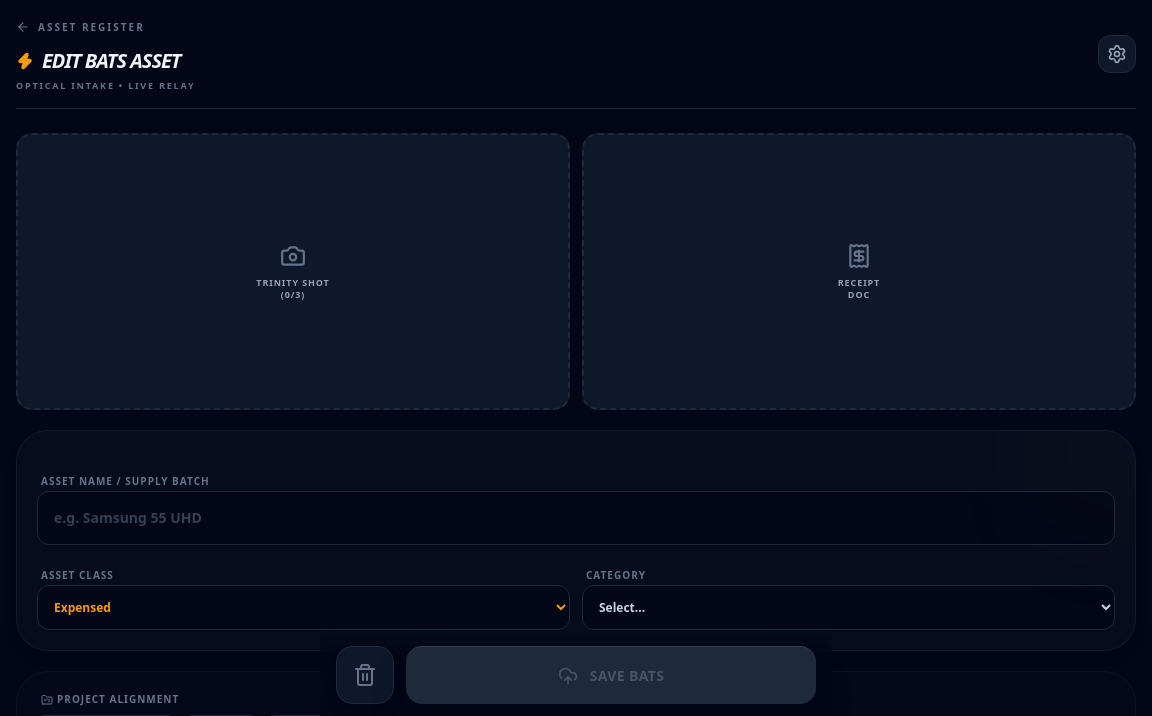
Scenario: BATS intake UI › sends PATCH to the current BATS asset route in edit mode
Expected: the heading "Edit BATS Asset" is shown, [42,46,180,74]
Type "Edited Camera" into the field with placeholder "e.g. Samsung 55 UHD". click: (576, 518)
box: [37,491,1115,545]
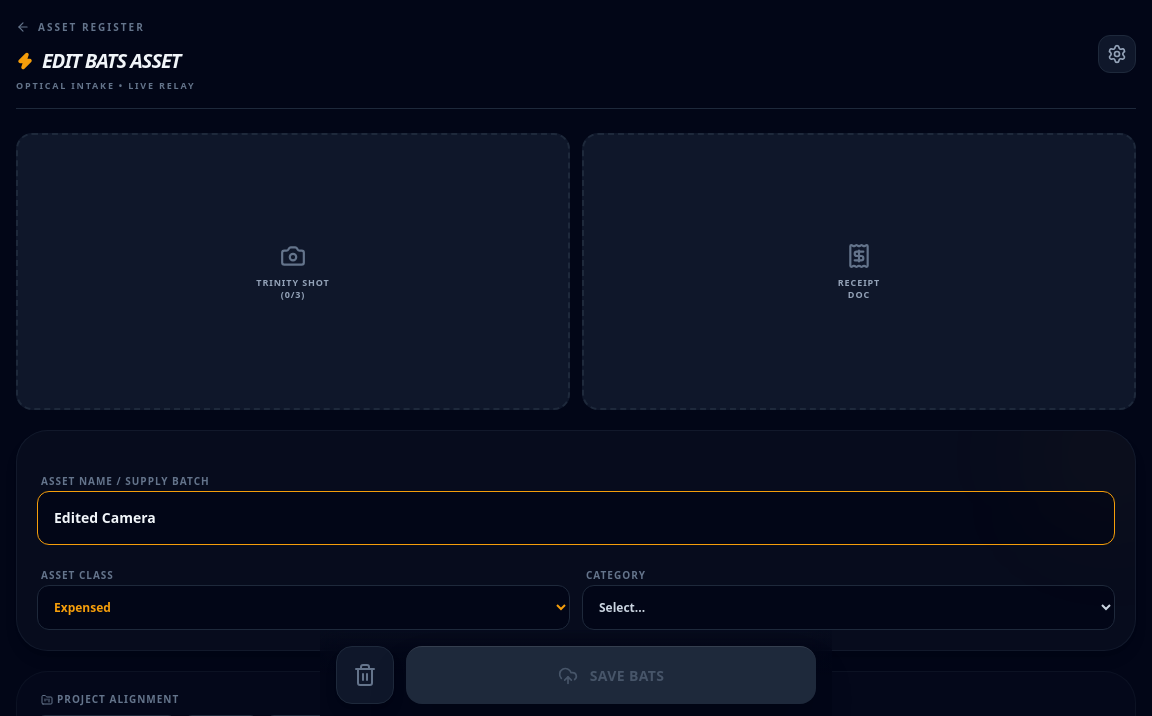
Select "Visuals - Displays" in the dropdown below "Category". click: (848, 608)
box: [582,585,1115,630]
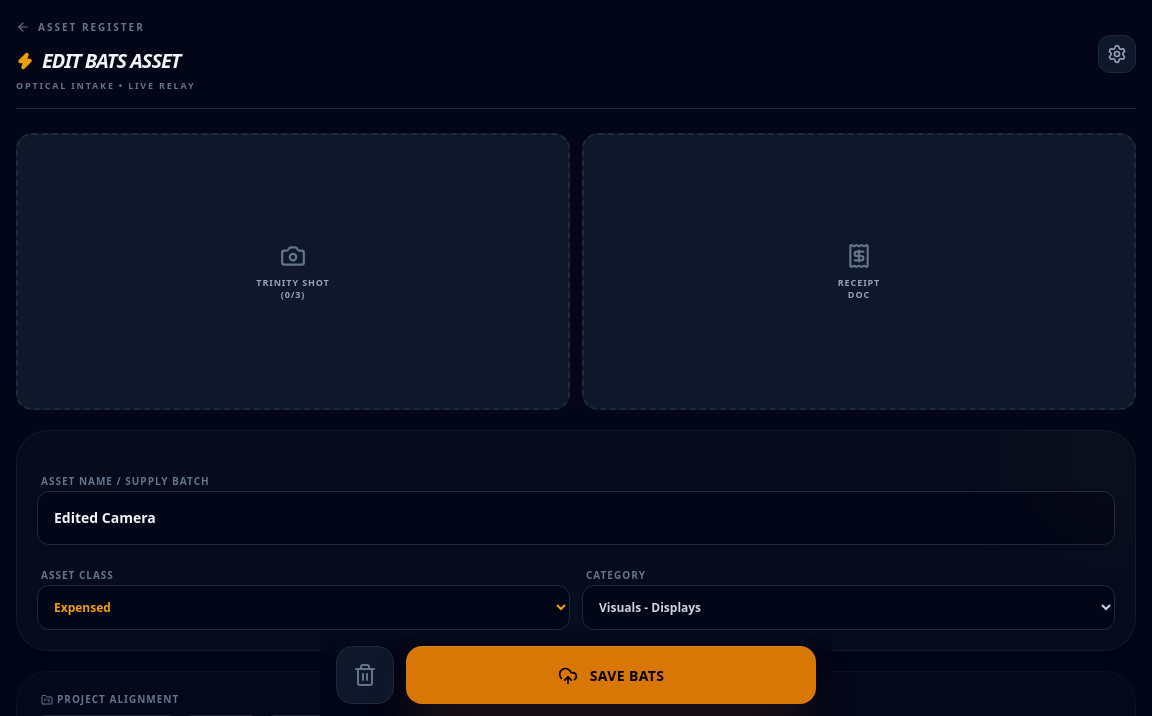
Click the button "SAVE BATS". click: (611, 675)
box: [406,646,816,704]
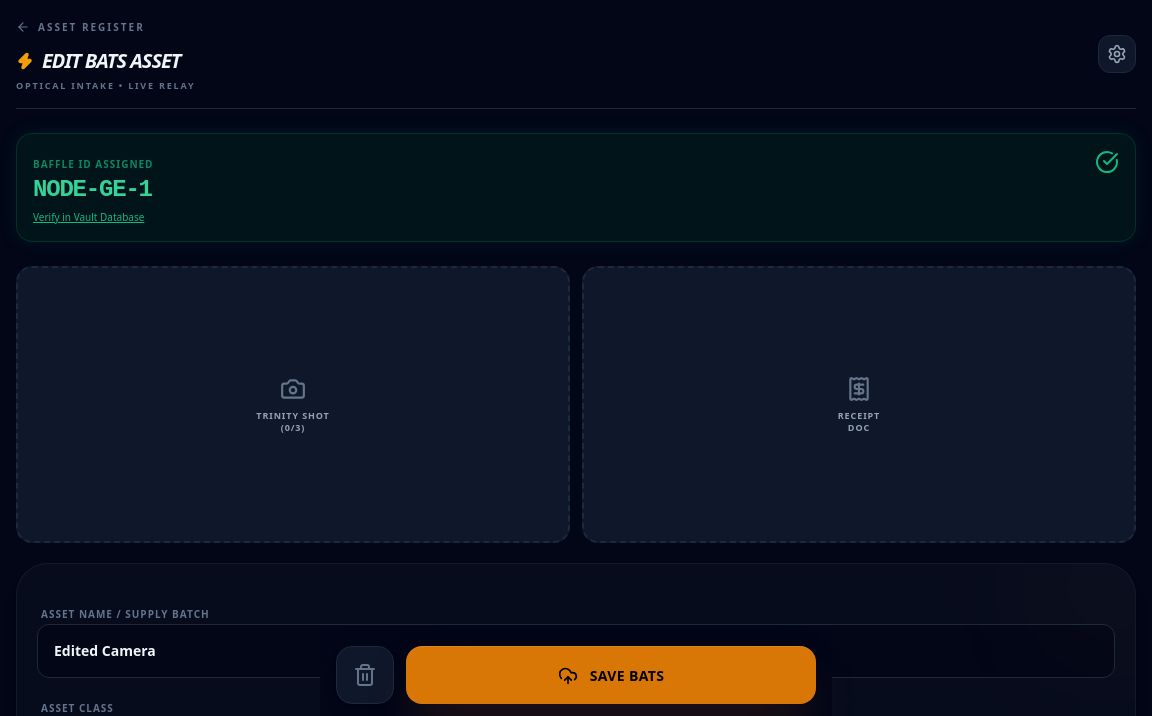
Expected: the text "NODE-GE-1" is shown, [33,174,154,206]
